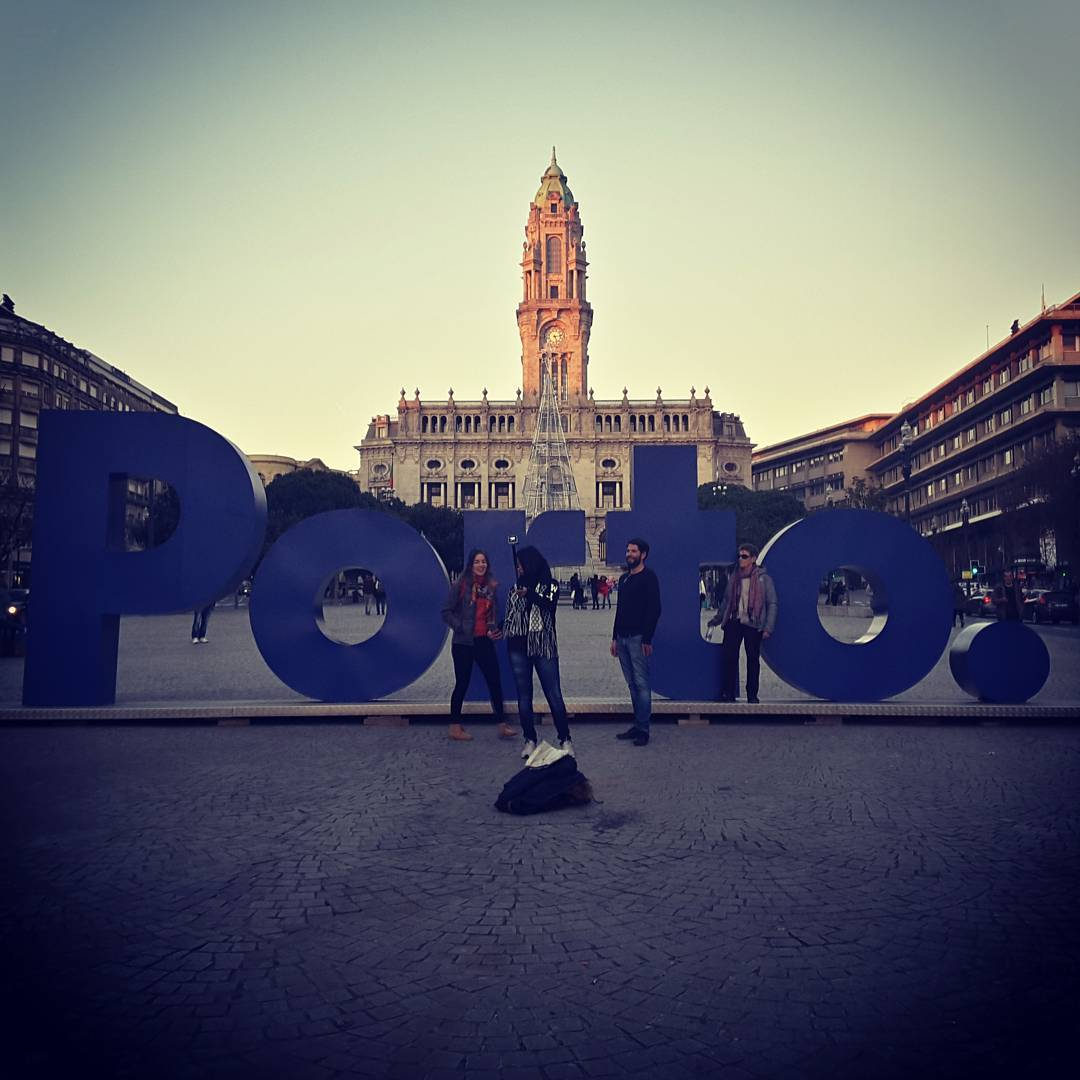camara: (354, 149, 760, 570)
